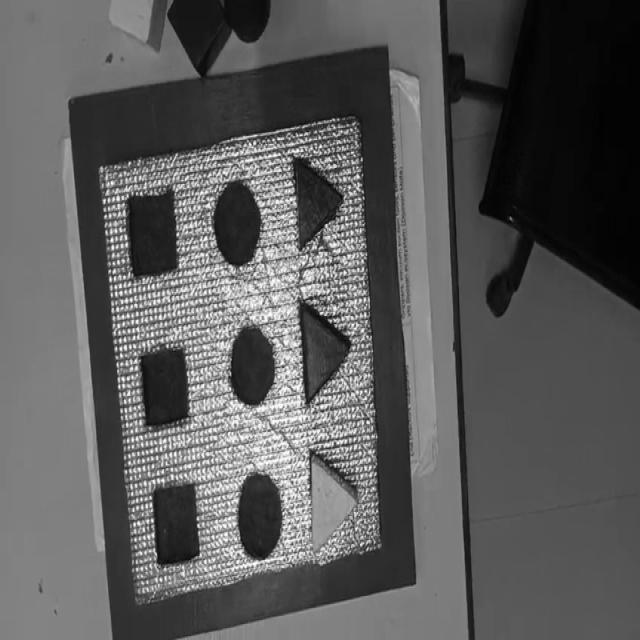bcircle: (224, 0, 270, 43)
btriangle: (294, 157, 344, 252)
mtcircle: (213, 181, 262, 268), (237, 471, 283, 559), (230, 325, 275, 407)
mtcube: (127, 189, 179, 279), (140, 344, 190, 428), (153, 482, 200, 568)
rcube: (168, 0, 227, 77)
rtriangle: (298, 302, 351, 406)
wb: (100, 113, 381, 606)
ycube: (108, 0, 165, 50)
ytriangle: (310, 451, 359, 552)
